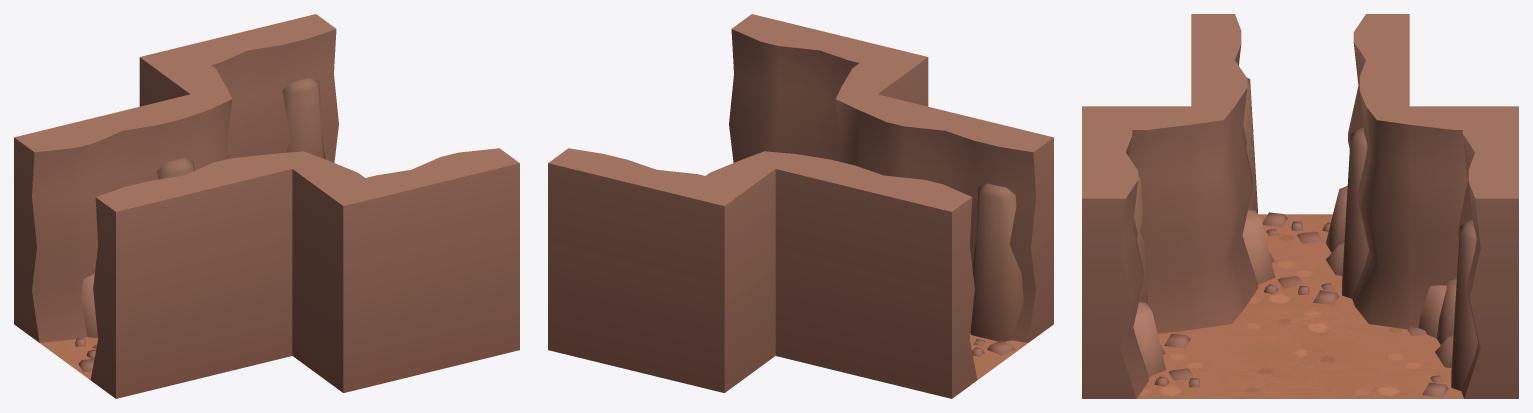
File: corridor-transition.glb
3 views of the same model, side by side, from view 1: azimuth 30°, elevation 25°; view 2: azimuth 150°, elevation 25°; view 3: azimuth 270°, elevation 25° (orthographic). The views are drawn at different scales.
Parts seen in each view (by area): view 1: corridor-transition; view 2: corridor-transition; view 3: corridor-transition.
Boxes of the visible parts, x1,y1,x2,y2 form: corridor-transition: (14, 14, 519, 398); corridor-transition: (548, 14, 1053, 398); corridor-transition: (1082, 14, 1518, 398).
Size of the model in its own units: 8 by 4.05 by 8.
Materials: 1 (1 with a texture image).
